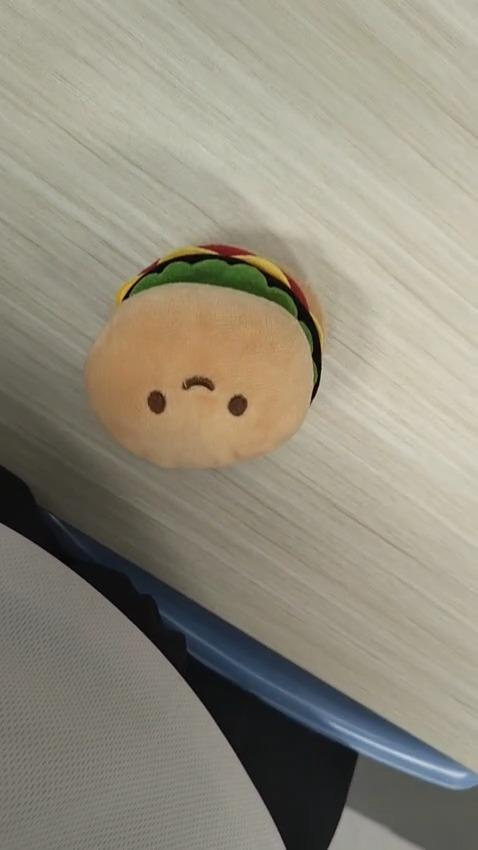hamburger: (91, 240, 330, 470)
